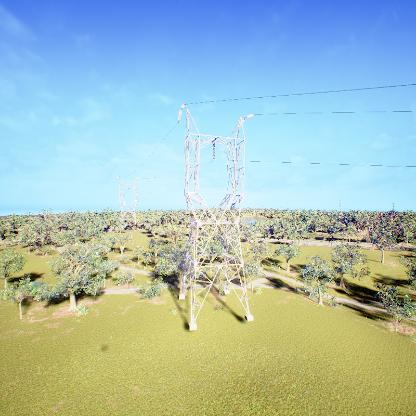tower: (173, 106, 262, 333)
